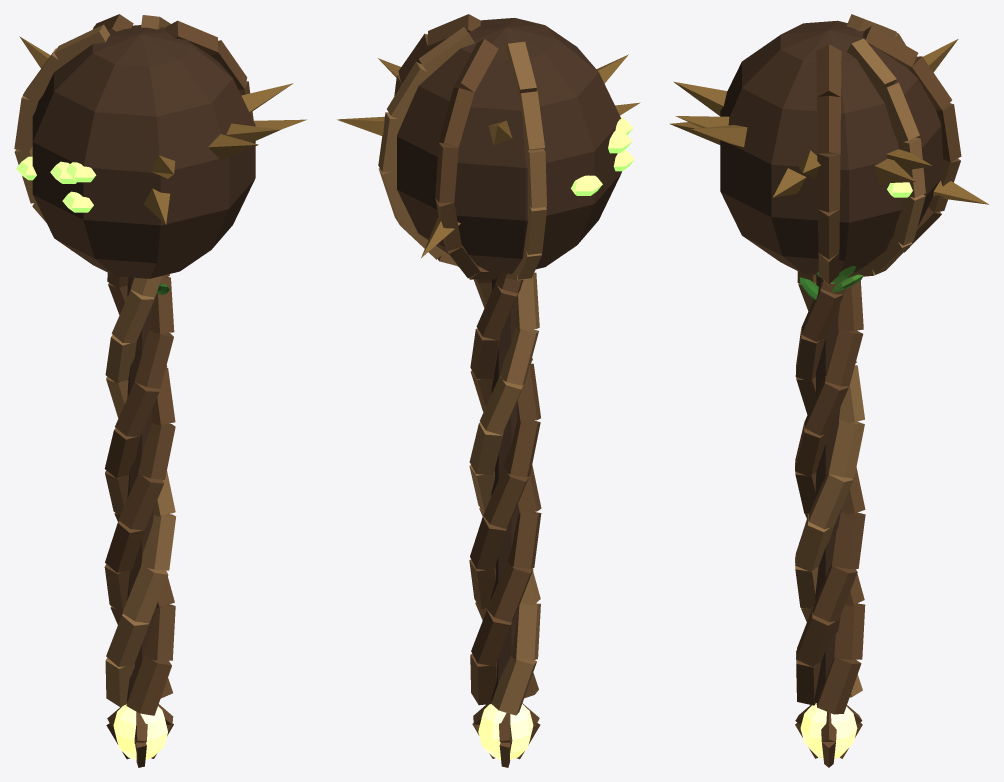
The model's file is roots_mace.glb.
3 renders of one model, left to right at view 1: azimuth 30°, elevation 25°; view 2: azimuth 150°, elevation 25°; view 3: azimuth 270°, elevation 25°, orthographic.
Parts seen in each view (by area): view 1: roots_mace; view 2: roots_mace; view 3: roots_mace.
Boxes of the visible parts, left/top/right/bottom form: roots_mace: left=14, top=14, right=306, bottom=767; roots_mace: left=337, top=14, right=640, bottom=767; roots_mace: left=669, top=14, right=988, bottom=767.
Bounding box in the file's own units: 0.3613 × 1.03 × 0.4062.
